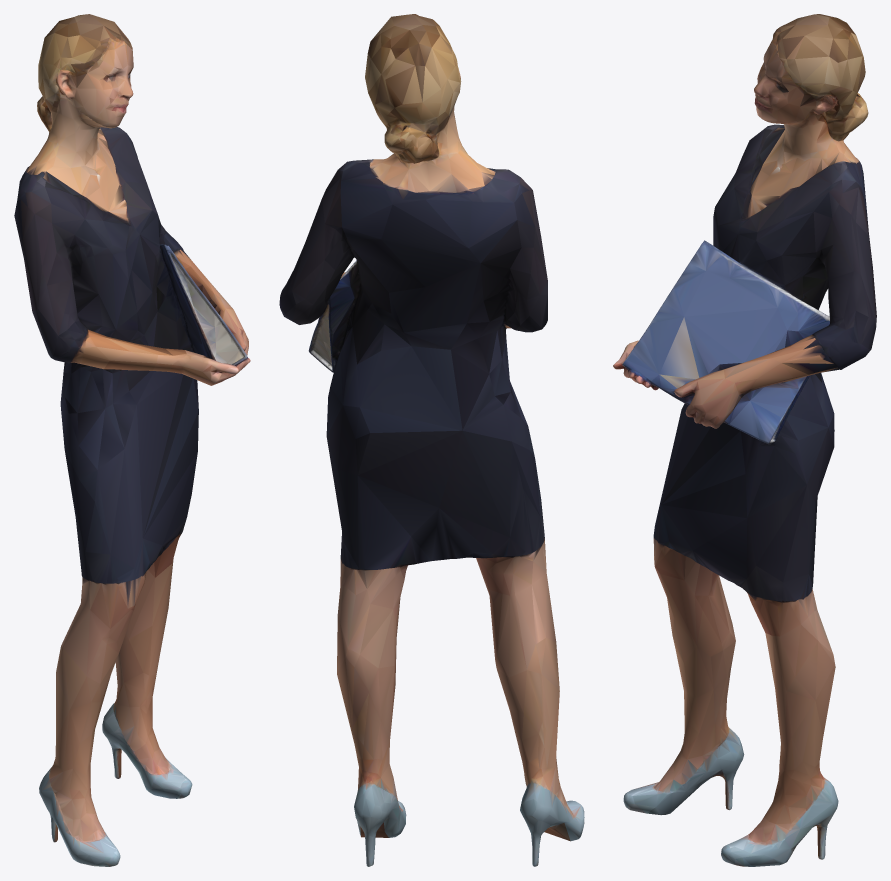
File: ren6.gltf
3 renders of one model, left to right at view 1: azimuth 30°, elevation 25°; view 2: azimuth 150°, elevation 25°; view 3: azimuth 270°, elevation 25°, orthographic. The views are drawn at different scales.
Parts seen in each view (by area): view 1: Obj3d66-515503-12-152; view 2: Obj3d66-515503-12-152; view 3: Obj3d66-515503-12-152.
Boxes of the visible parts, x1,y1,x2,y2 form: Obj3d66-515503-12-152: (14, 14, 250, 866); Obj3d66-515503-12-152: (279, 14, 584, 866); Obj3d66-515503-12-152: (613, 14, 876, 866).
Size of the model in its own units: 4.63 by 16.97 by 4.9.
1 material, 1 textured.
